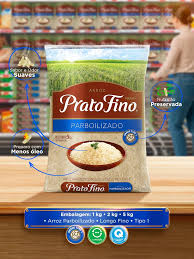arroz: (43, 44, 153, 194)
